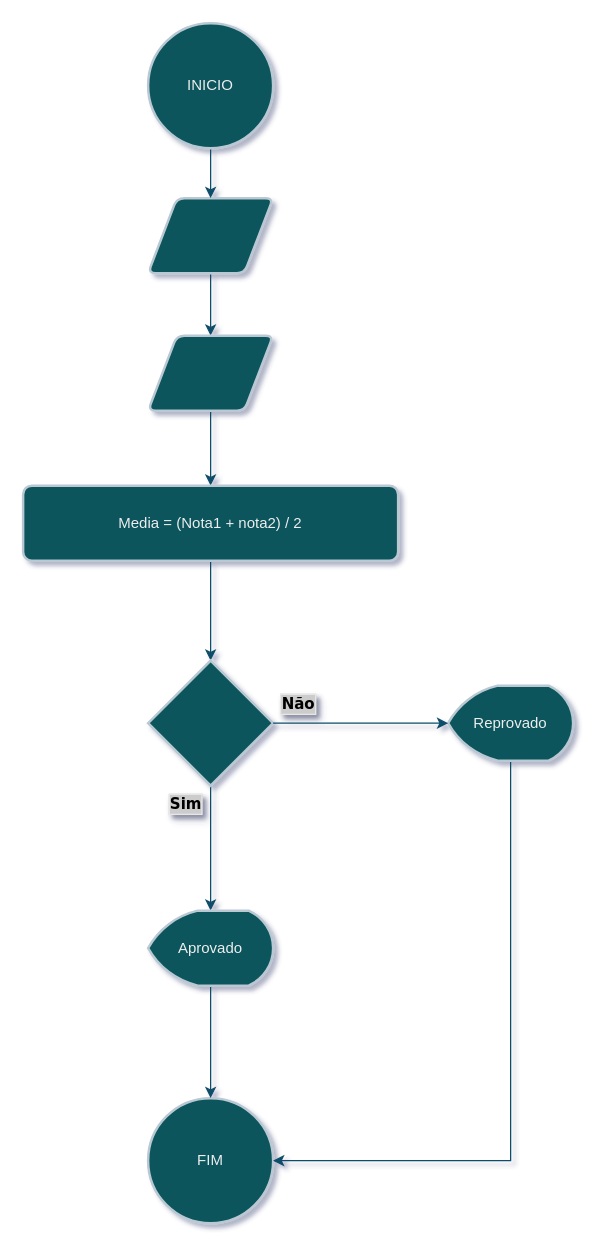
Some shapes in this 603 by 1253 pixel diagram are drawn without their labels. The box of each missing label's shape, as (x1, y1, x2, y2) in pixels:
Nota 1: (146, 196, 274, 274)
Nota 2: (146, 334, 274, 411)
Nota >= 7: (146, 659, 274, 786)
